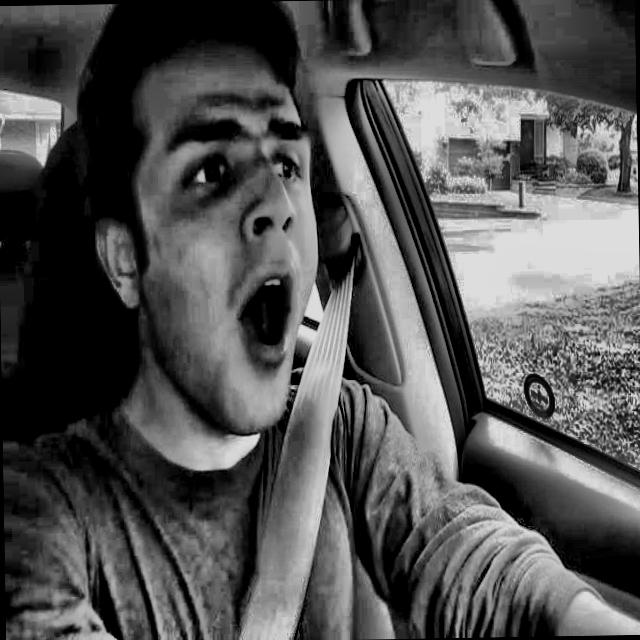open_eyes: (173, 138, 240, 196), (259, 138, 321, 197)
open_mouth: (209, 255, 315, 381)
